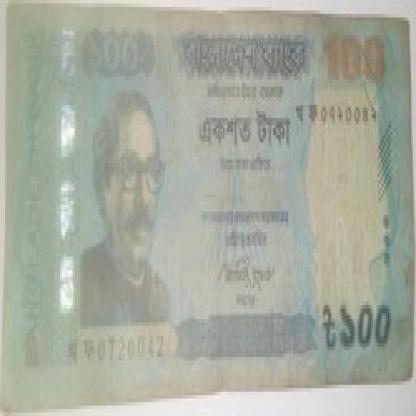one hundred taka: (315, 284, 401, 361), (87, 17, 163, 90)
